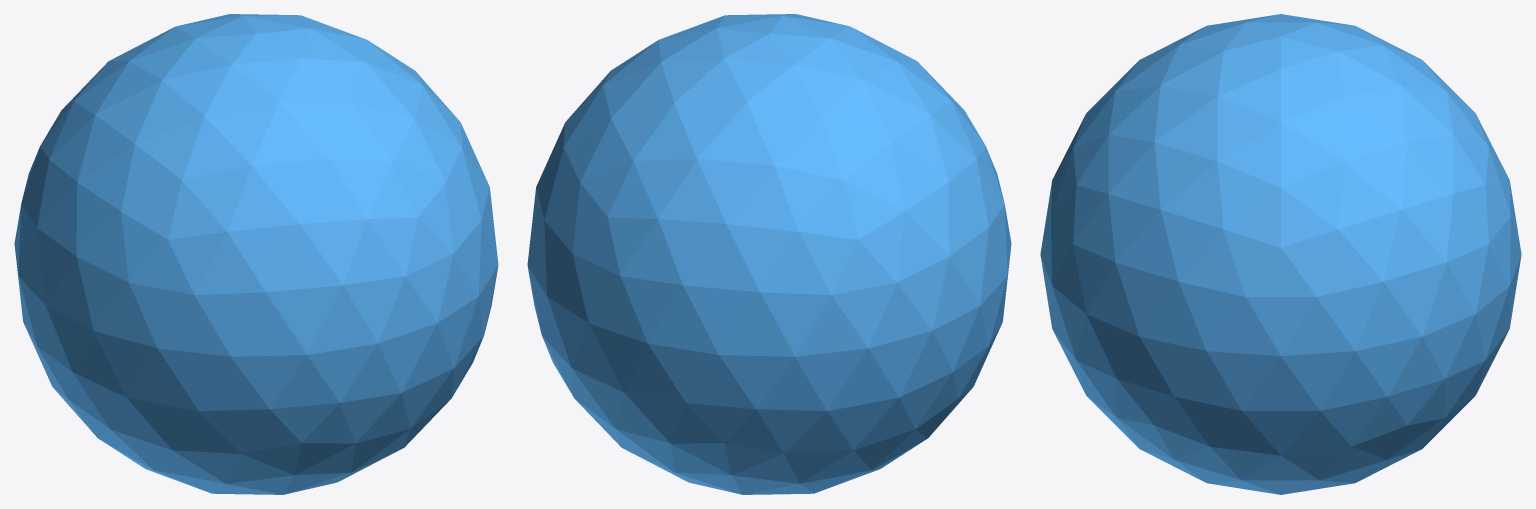
The model's file is skydome.glb.
3 views of the same model, side by side, from view 1: azimuth 30°, elevation 25°; view 2: azimuth 150°, elevation 25°; view 3: azimuth 270°, elevation 25° (orthographic).
Visible parts, largest first — view 1: Icosphere.014; view 2: Icosphere.014; view 3: Icosphere.014.
Part boxes in pixels (x1,y1,x2,y2): Icosphere.014: (14, 14, 498, 494); Icosphere.014: (527, 14, 1011, 494); Icosphere.014: (1040, 14, 1521, 494).
Bounding box in the file's own units: 829 × 829 × 829.
